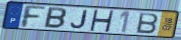1: (118, 10, 131, 34)
B: (43, 6, 68, 30), (136, 12, 160, 35)
F: (21, 4, 48, 29)
H: (88, 8, 116, 33)
J: (70, 9, 89, 30)
